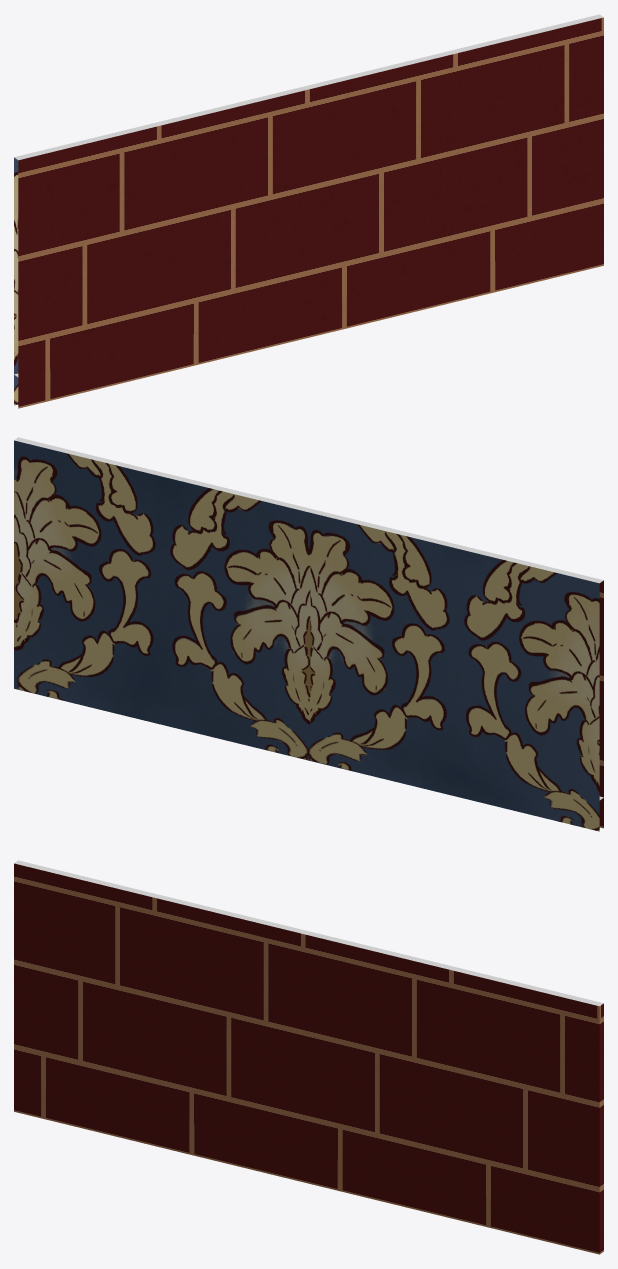
File: Wall.fbx
3 views of the same model, one above another, from view 1: azimuth 30°, elevation 25°; view 2: azimuth 150°, elevation 25°; view 3: azimuth 330°, elevation 25° (orthographic).
Parts seen in each view (by area): view 1: wall; view 2: wall; view 3: wall.
Part boxes in pixels (x1,y1,x2,y2): wall: [14, 14, 603, 408]; wall: [14, 437, 603, 831]; wall: [14, 860, 603, 1254].
Size of the model in its own units: 1481 by 600 by 18.75.
